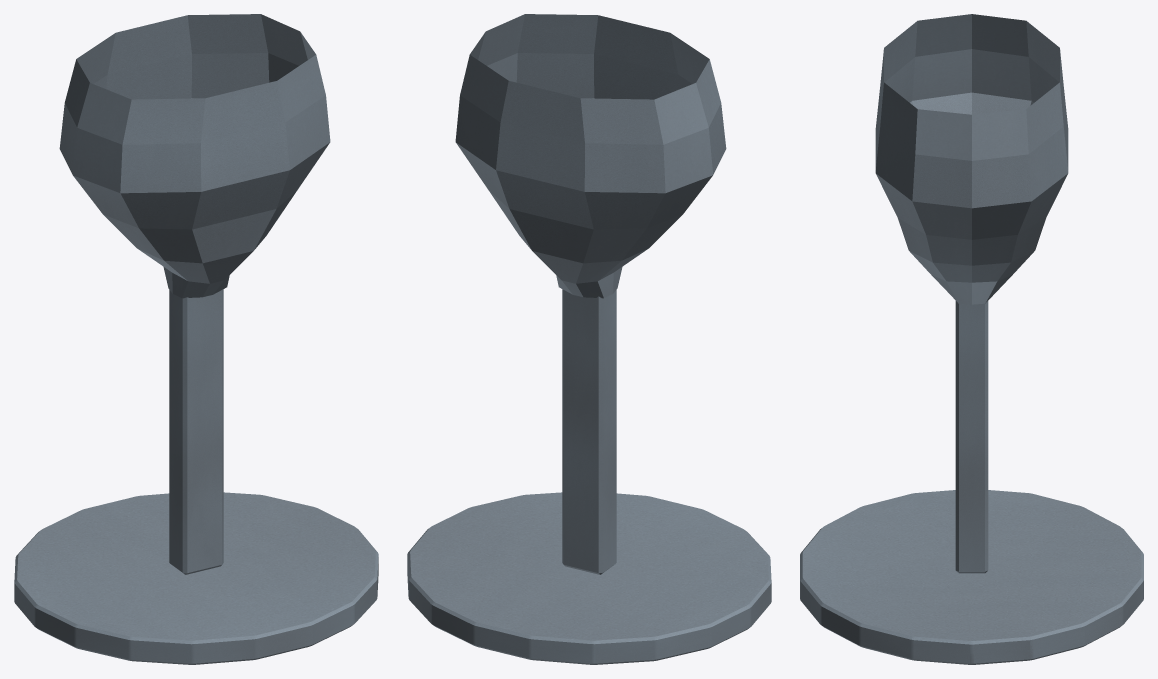
File: WineGlass.fbx
3 views of the same model, side by side, from view 1: azimuth 30°, elevation 25°; view 2: azimuth 150°, elevation 25°; view 3: azimuth 270°, elevation 25° (orthographic).
Visible parts, largest first — view 1: WineGlass; view 2: WineGlass; view 3: WineGlass.
Boxes of the visible parts, x1=… form: WineGlass: x1=14, y1=14, x2=378, y2=664; WineGlass: x1=407, y1=14, x2=771, y2=664; WineGlass: x1=800, y1=14, x2=1143, y2=664.
Bounding box in the file's own units: 0.6936 × 1.1 × 0.6524.
1 material, 1 textured.
